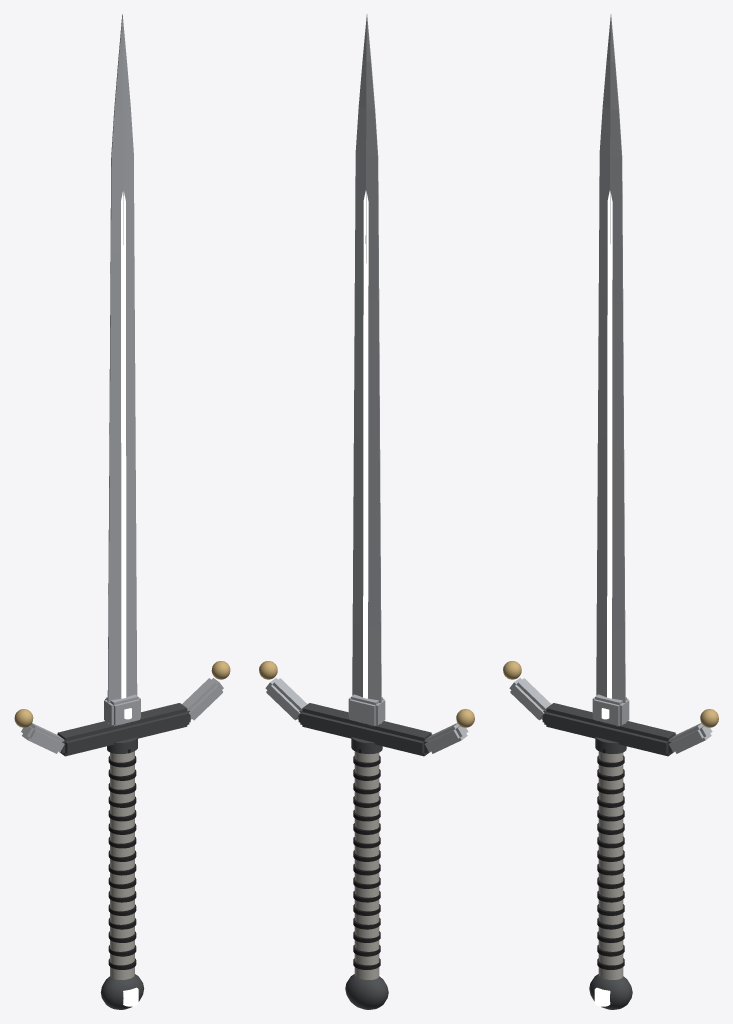
The model's file is claymore_4.glb.
The picture shows the model from 3 angles, left to right: view 1: azimuth 30°, elevation 25°; view 2: azimuth 150°, elevation 25°; view 3: azimuth 330°, elevation 25°; orthographic projection.
Parts seen in each view (by area): view 1: claymore_4_steel, claymore_4_dark_steel, claymore_4_skin, claymore_4_glow, claymore_4_wrap, claymore_4_brass; view 2: claymore_4_steel, claymore_4_dark_steel, claymore_4_skin, claymore_4_glow, claymore_4_wrap, claymore_4_brass; view 3: claymore_4_steel, claymore_4_dark_steel, claymore_4_skin, claymore_4_glow, claymore_4_wrap, claymore_4_brass.
Part boxes in pixels (x1,y1,x2,y2): claymore_4_steel: [21, 14, 223, 753]; claymore_4_dark_steel: [57, 703, 190, 1009]; claymore_4_skin: [110, 751, 134, 979]; claymore_4_glow: [121, 191, 138, 1006]; claymore_4_wrap: [108, 749, 136, 969]; claymore_4_brass: [14, 661, 230, 727]; claymore_4_steel: [265, 14, 468, 753]; claymore_4_dark_steel: [298, 703, 432, 1009]; claymore_4_skin: [354, 751, 379, 979]; claymore_4_glow: [363, 190, 383, 978]; claymore_4_wrap: [353, 749, 380, 969]; claymore_4_brass: [259, 661, 474, 727]; claymore_4_steel: [509, 14, 712, 753]; claymore_4_dark_steel: [542, 703, 676, 1009]; claymore_4_skin: [598, 751, 623, 979]; claymore_4_glow: [594, 190, 612, 1006]; claymore_4_wrap: [597, 749, 624, 969]; claymore_4_brass: [503, 661, 718, 727].
Bounding box in the file's own units: 0.364 × 1.62 × 0.0615.
